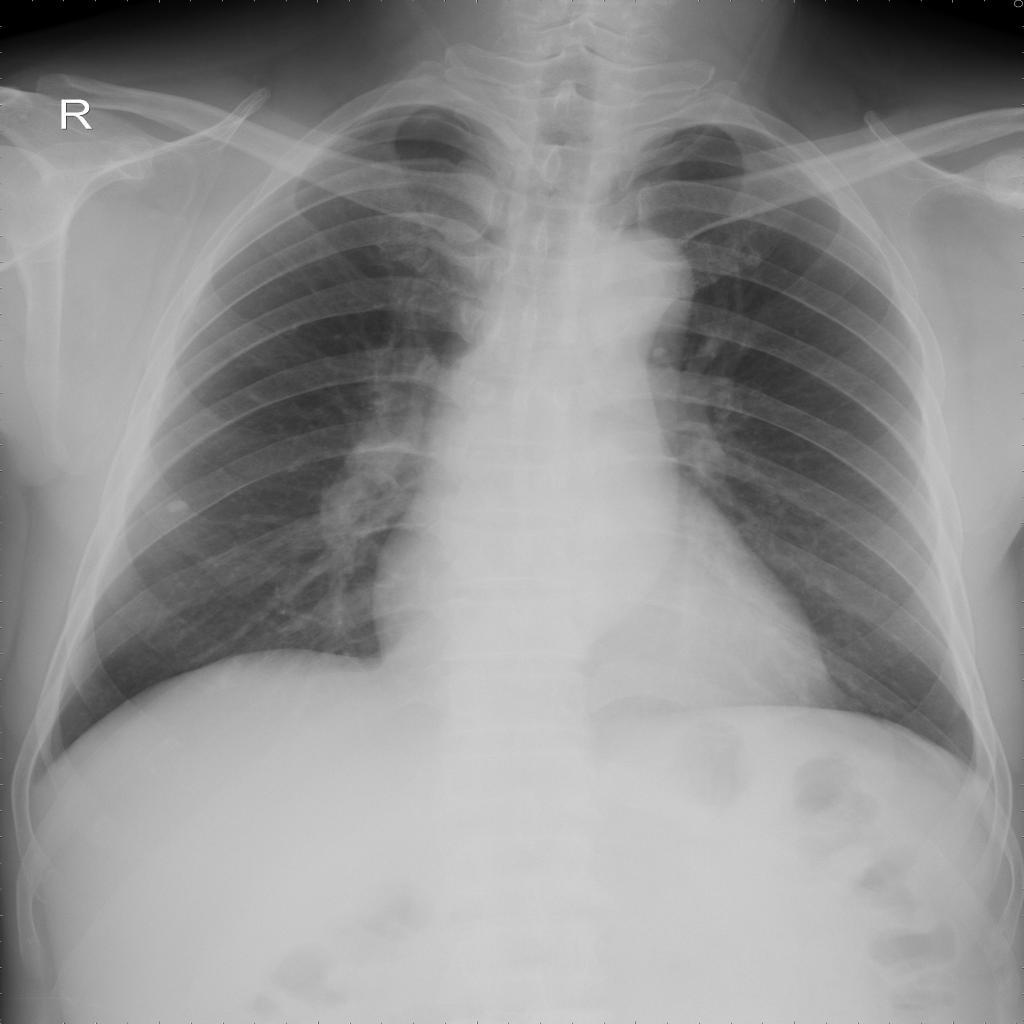Nodule: (166, 498, 192, 513)
